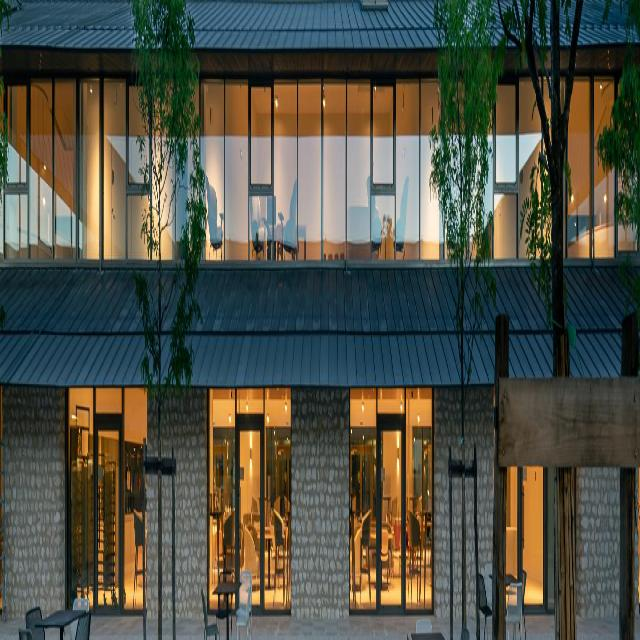door: (235, 414, 265, 617), (93, 411, 123, 612), (375, 412, 405, 612)
window: (0, 85, 640, 251), (207, 388, 292, 615), (350, 390, 435, 605), (68, 391, 147, 601), (505, 463, 546, 610)
